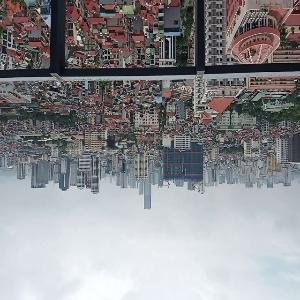drone: (83, 115, 142, 174)
